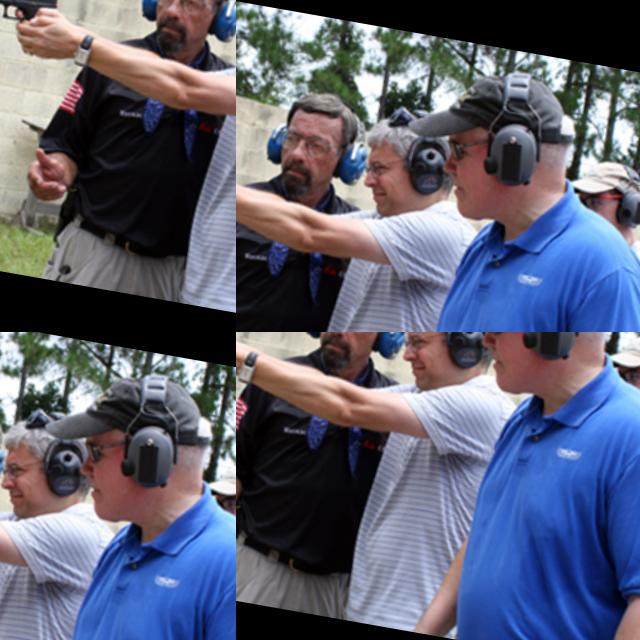handgun: (0, 0, 236, 287), (300, 184, 640, 332), (0, 508, 236, 640), (236, 332, 283, 358)
